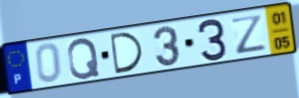0: (33, 41, 63, 86)
3: (195, 16, 227, 63), (152, 25, 182, 68)
D: (107, 30, 146, 76)
Q: (66, 37, 102, 82)
Z: (229, 13, 269, 56)
